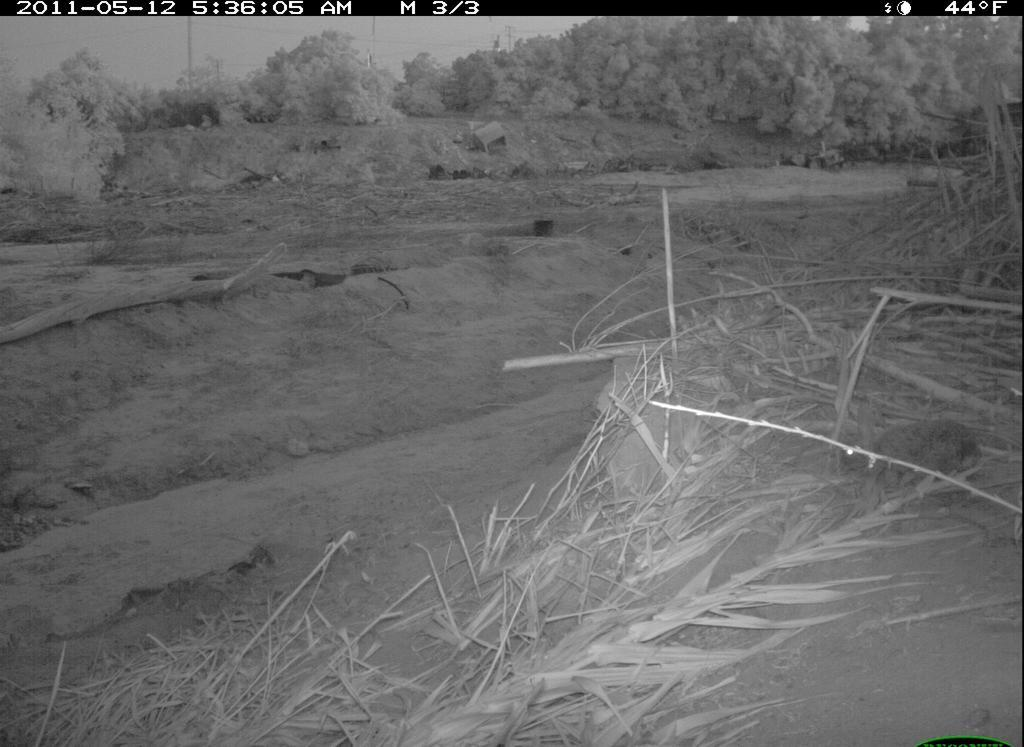rabbit: (834, 391, 989, 510)
